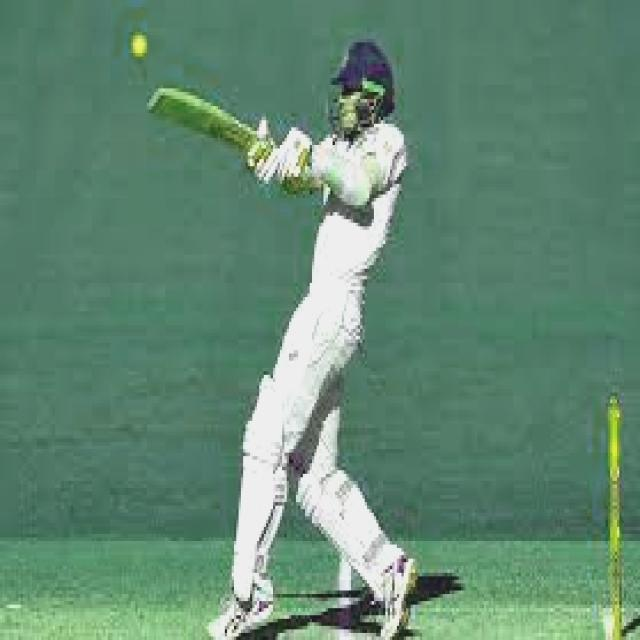toe: (143, 86, 169, 118)
